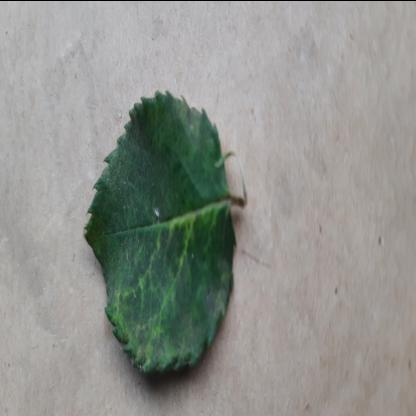downy-mildew: (83, 87, 235, 384)
